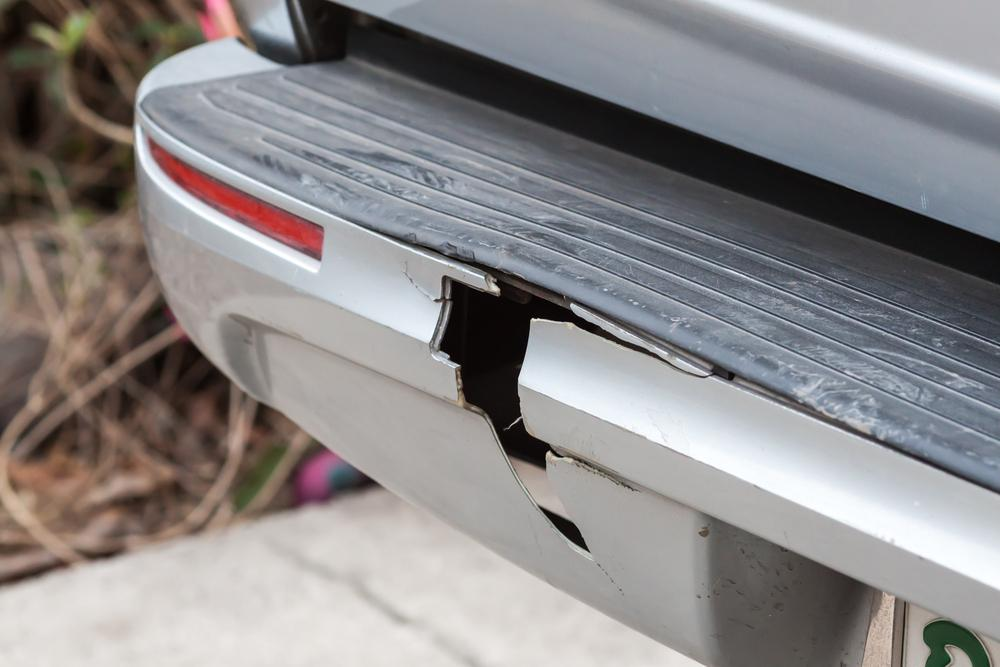crack: (400, 257, 715, 561)
